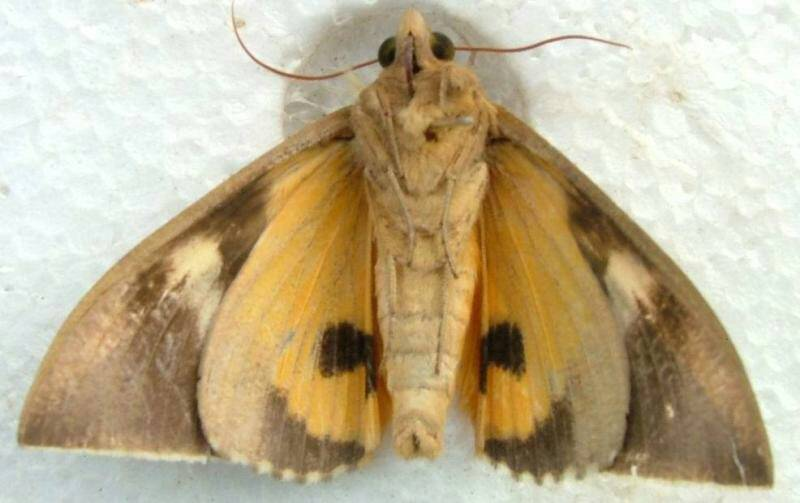feie: (24, 30, 774, 503)
